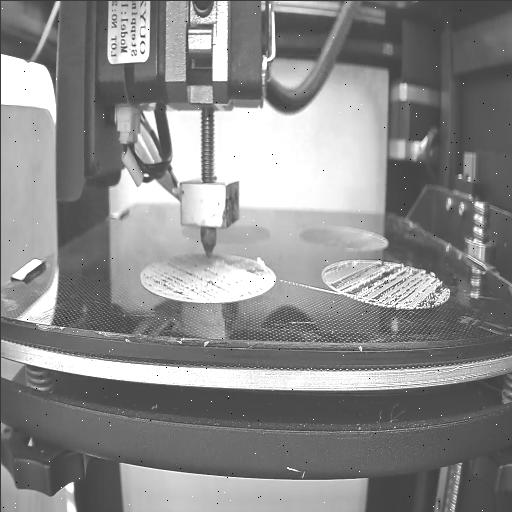under_extrusion: (329, 260, 446, 308), (140, 266, 236, 300), (240, 254, 276, 299)
